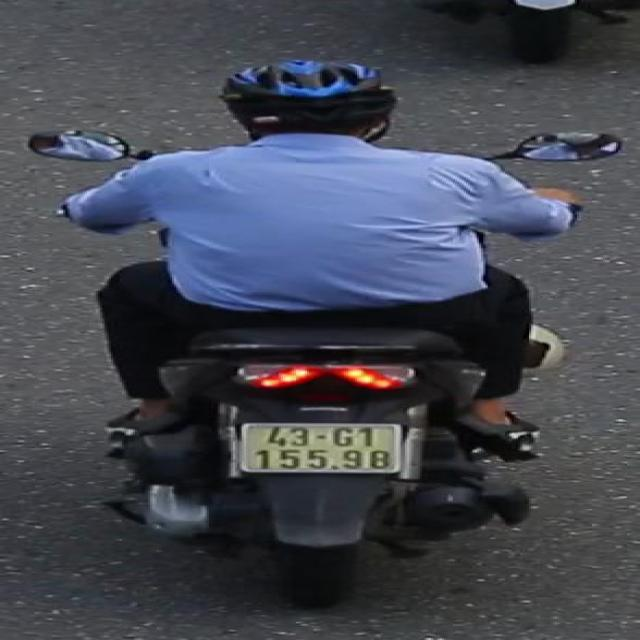LP: (233, 415, 414, 479)
helmet: (215, 60, 402, 139)
